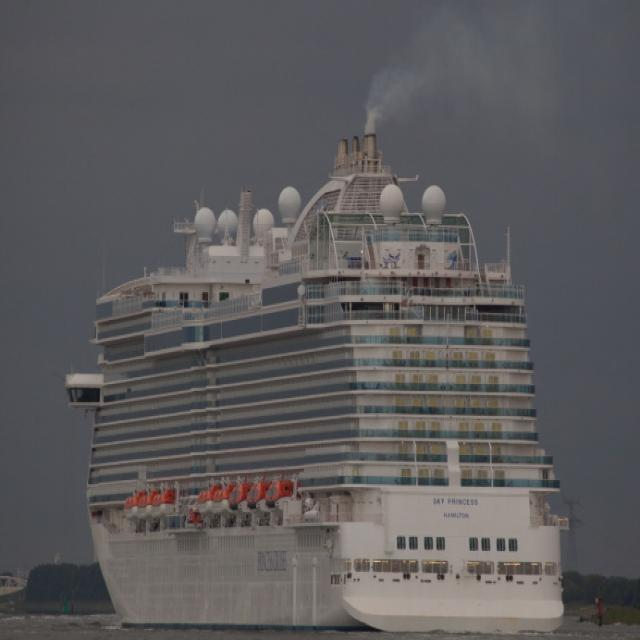cruises: (62, 134, 573, 640)
